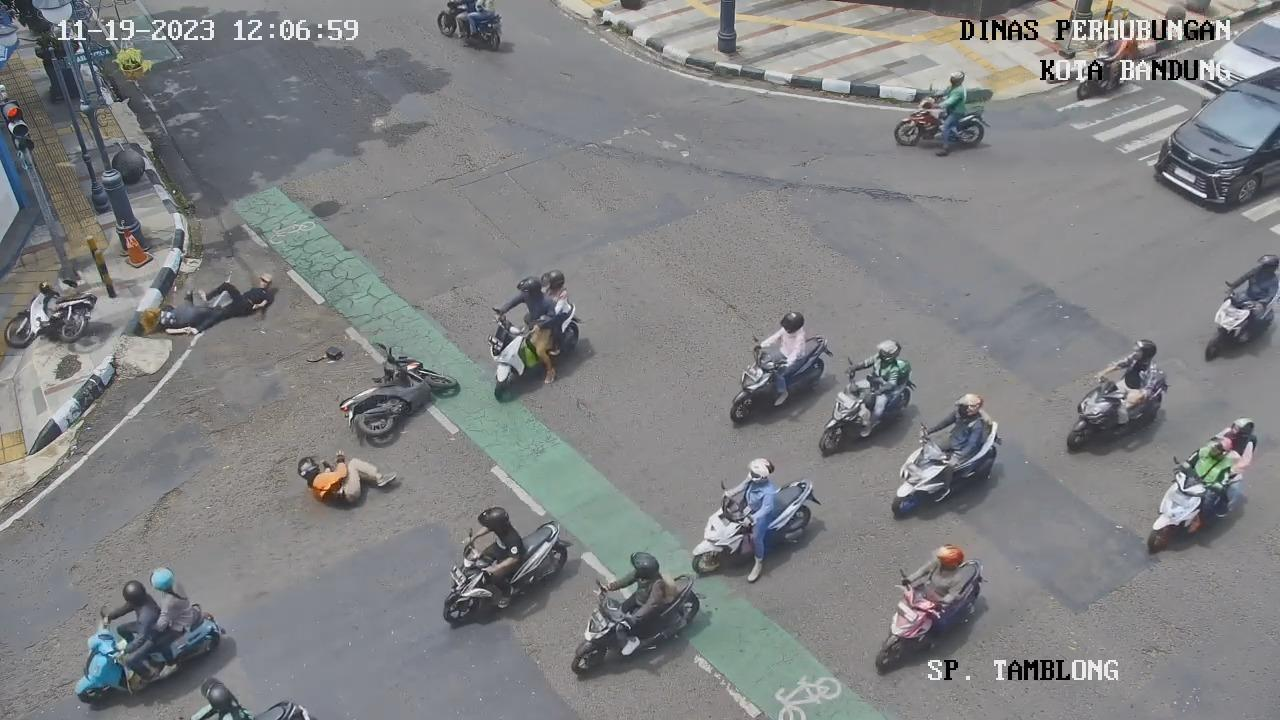accident: (287, 445, 403, 512), (195, 257, 285, 332), (135, 290, 224, 346)
